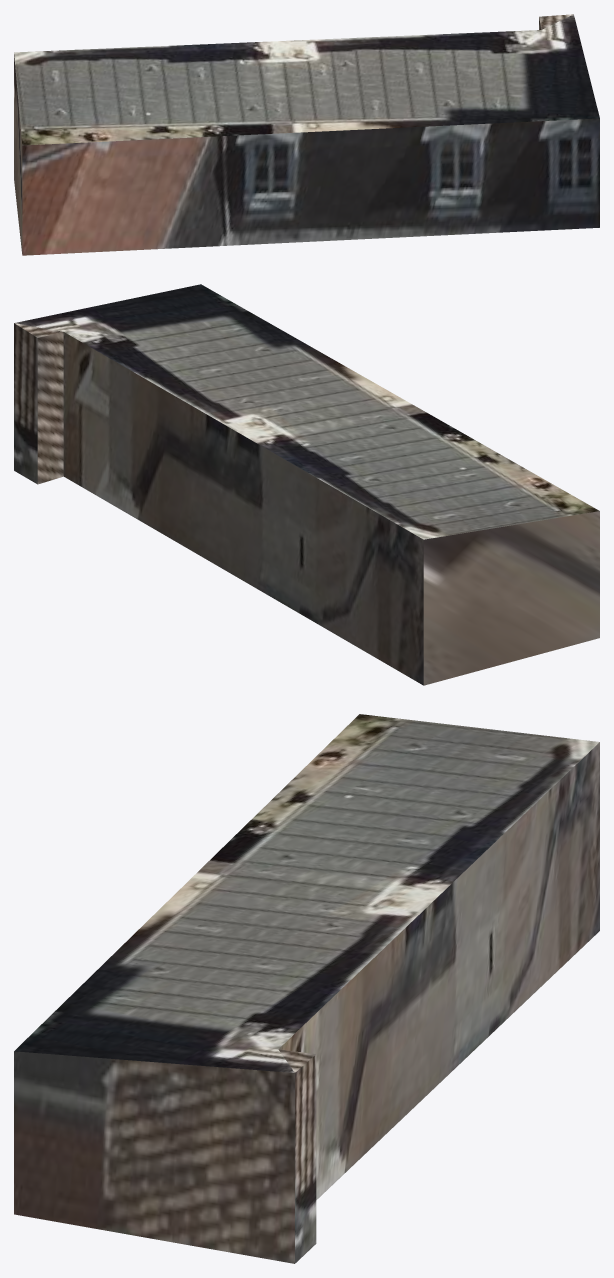
3 renders of one model, top to bottom at view 1: azimuth 30°, elevation 25°; view 2: azimuth 150°, elevation 25°; view 3: azimuth 270°, elevation 25°, orthographic. The views are drawn at different scales.
Visible parts, largest first — view 1: Z_UP; view 2: Z_UP; view 3: Z_UP.
Boxes of the visible parts, x1=… form: Z_UP: x1=14, y1=14, x2=599, y2=255; Z_UP: x1=14, y1=284, x2=599, y2=685; Z_UP: x1=14, y1=714, x2=599, y2=1263.
Bounding box in the file's own units: 15.86 × 3.66 × 10.18.
Materials: 2 (1 with a texture image).
